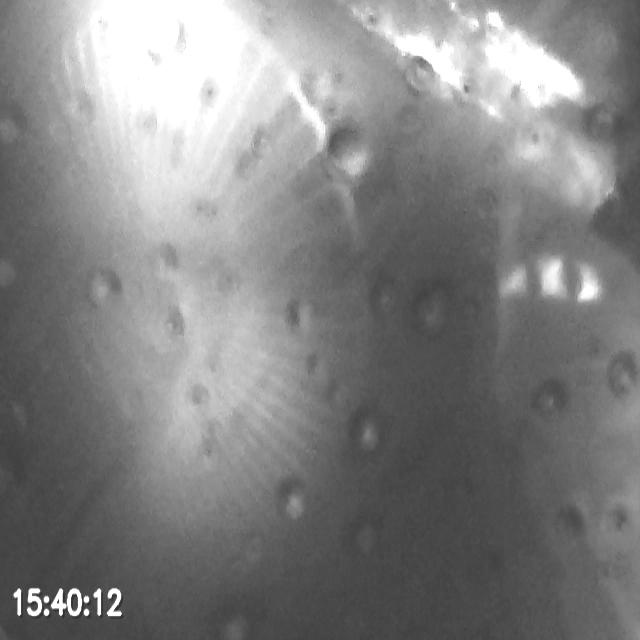white-dots: (498, 255, 604, 306)
